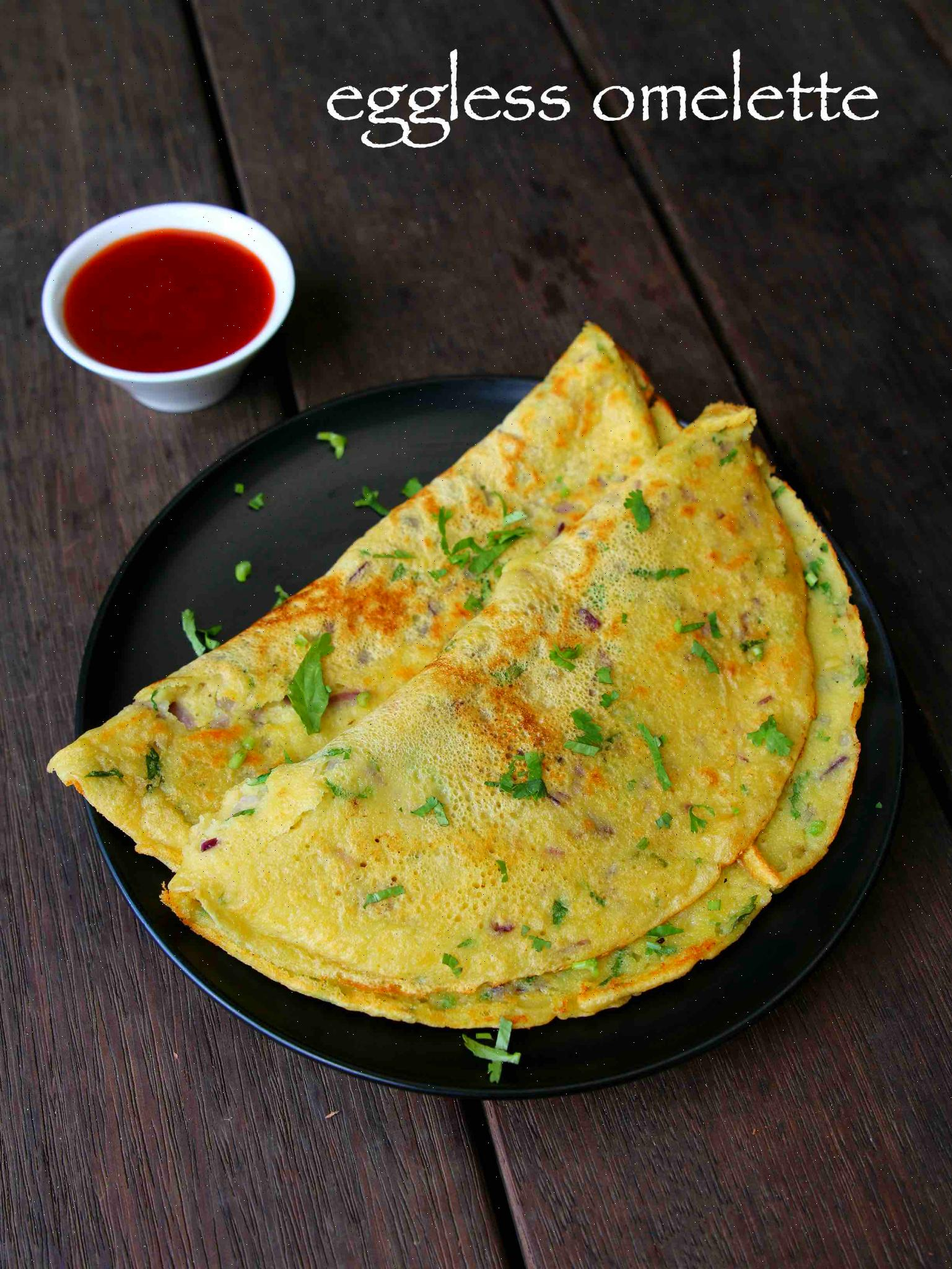omelette: (161, 483, 839, 1058)
